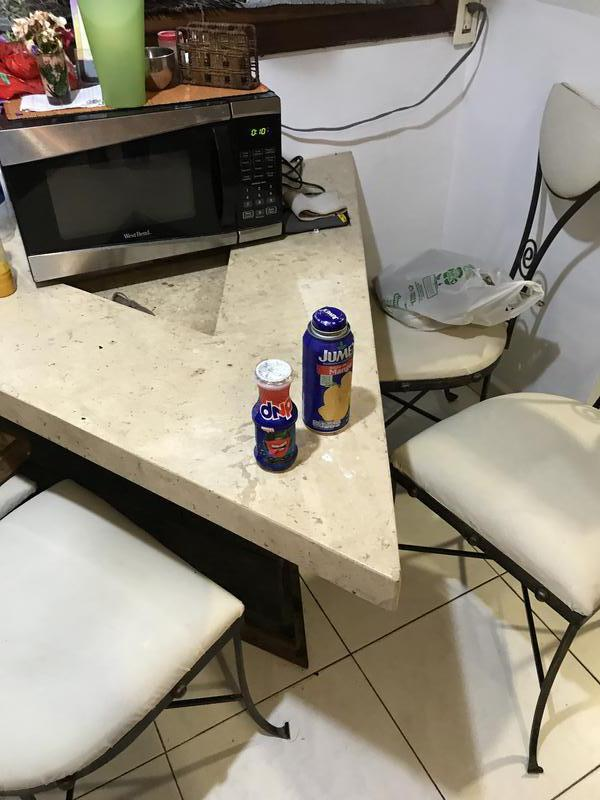danup: (250, 359, 302, 474)
jugo_jumex: (300, 305, 355, 435)
